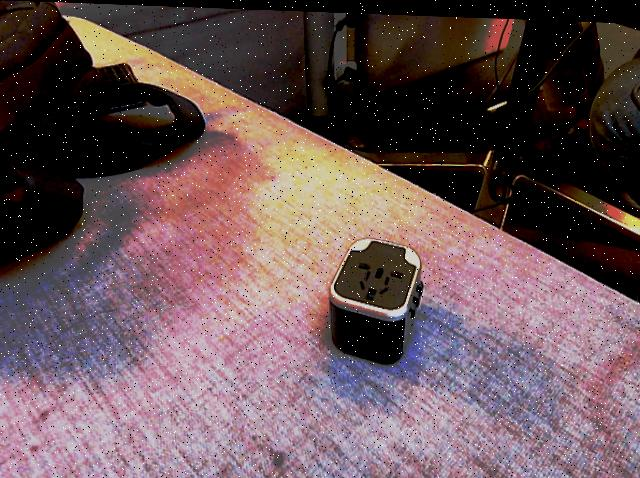adapter: (328, 233, 424, 363)
